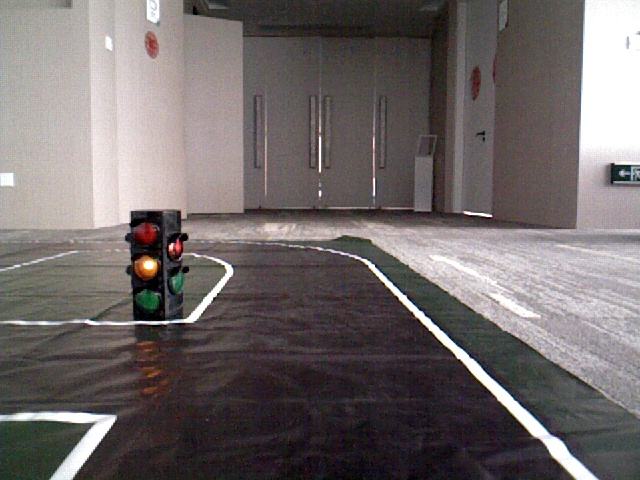yellow: (130, 213, 167, 313)
